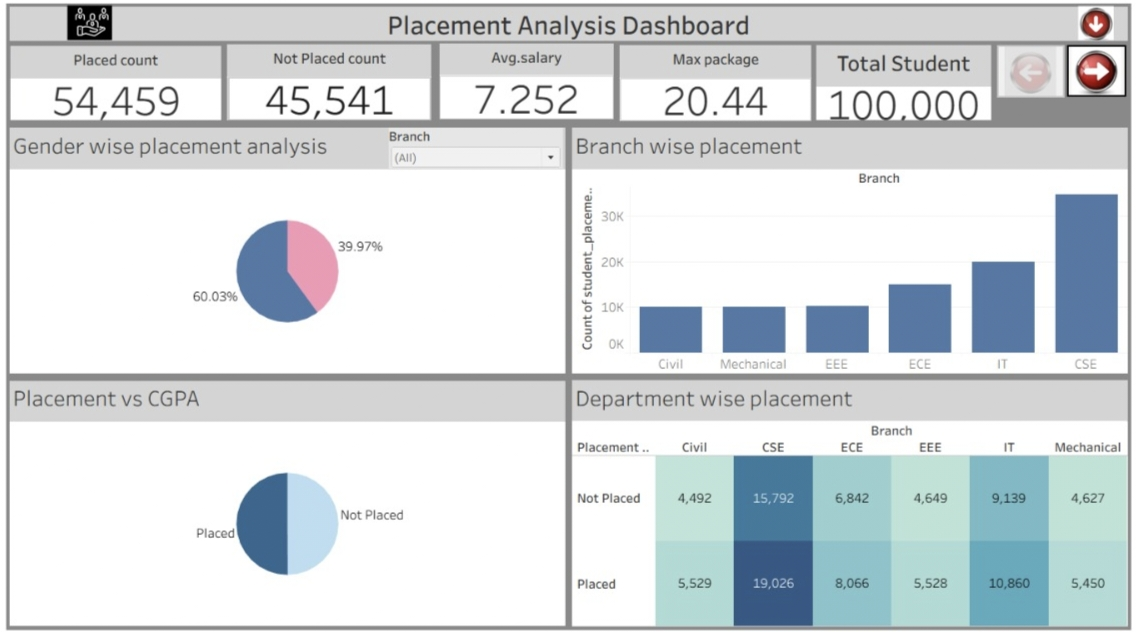

The dashboard page shown, as its layout file describes it:
{"tool":"tableau","page":{"name":"Placement Analysis Dashboard","canvas":[1366,768],"ordinal":0},"visuals":[{"type":"title","box":[8,8,1350,49]},{"type":"image","param":"C:/Users/lathi/AppData/Local/Temp/TableauTemp/0j2rm941509ta21fqem9w07d6gjp/Sheet","box":[34,11,57,44]},{"type":"dashboard-object","box":[1277,11,76,41]},{"type":"worksheet","title":"Avg.salary","mark":"Automatic","box":[528,56,209,91]},{"type":"legend","title":"Gender wise placement analysis","param":"[federated.0i0cj07034cf3o1h8nas819k2yet].[none:gender:nk]","box":[8,57,1350,48]},{"type":"worksheet","title":"No,of  not placed students ","mark":"Automatic","box":[273,57,245,91]},{"type":"worksheet","title":"Max package","mark":"Automatic","box":[744,58,230,91]},{"type":"worksheet","title":"Total Student","mark":"Automatic","box":[980,58,210,90]},{"type":"dashboard-object","box":[1197,58,81,63]},{"type":"dashboard-object","box":[1281,58,71,62]},{"type":"worksheet","title":"Placement count","mark":"Automatic","box":[13,59,253,89]},{"type":"legend","title":"Gender wise placement analysis","param":"[federated.0i0cj07034cf3o1h8nas819k2yet].[__tableau_internal_object_id__].[cnt:s","box":[8,105,1350,48]},{"type":"worksheet","title":"Gender wise placement analysis","mark":"Pie","box":[8,153,675,303.5]},{"type":"worksheet","title":"Branch wise placement","mark":"Automatic","rows":["student!placement!prediction!da_299001294B604F05B1F10018FFC4"],"cols":["branch"],"box":[683,153,675,303.5]},{"type":"filter","title":"Branch wise placement","param":"[federated.0i0cj07034cf3o1h8nas819k2yet].[none:branch:nk]","box":[467,157,209,49]},{"type":"worksheet","title":"Placement vs CGPA","mark":"Pie","box":[8,456.5,675,303.5]},{"type":"worksheet","title":"Department wise placement","mark":"Square","rows":["placement_status"],"cols":["branch"],"box":[683,456.5,675,303.5]}]}

Visuals, with their boxes in screenshot pixels (x1, y1, x2, y2), scaled from the page's 1366x768 canvas onto the 1136x632 screenshot:
title: crop(7, 7, 1129, 47)
image: crop(28, 9, 76, 45)
dashboard-object: crop(1062, 9, 1125, 43)
"Avg.salary" worksheet: crop(439, 46, 613, 121)
"Gender wise placement analysis" legend: crop(7, 47, 1129, 86)
"No,of  not placed students " worksheet: crop(227, 47, 431, 122)
"Max package" worksheet: crop(619, 48, 810, 123)
"Total Student" worksheet: crop(815, 48, 990, 122)
dashboard-object: crop(995, 48, 1063, 100)
dashboard-object: crop(1065, 48, 1124, 99)
"Placement count" worksheet: crop(11, 49, 221, 122)
"Gender wise placement analysis" legend: crop(7, 86, 1129, 126)
"Gender wise placement analysis" worksheet (Pie marks): crop(7, 126, 568, 376)
"Branch wise placement" worksheet: crop(568, 126, 1129, 376)
"Branch wise placement" filter: crop(388, 129, 562, 170)
"Placement vs CGPA" worksheet (Pie marks): crop(7, 376, 568, 625)
"Department wise placement" worksheet (Square marks): crop(568, 376, 1129, 625)
